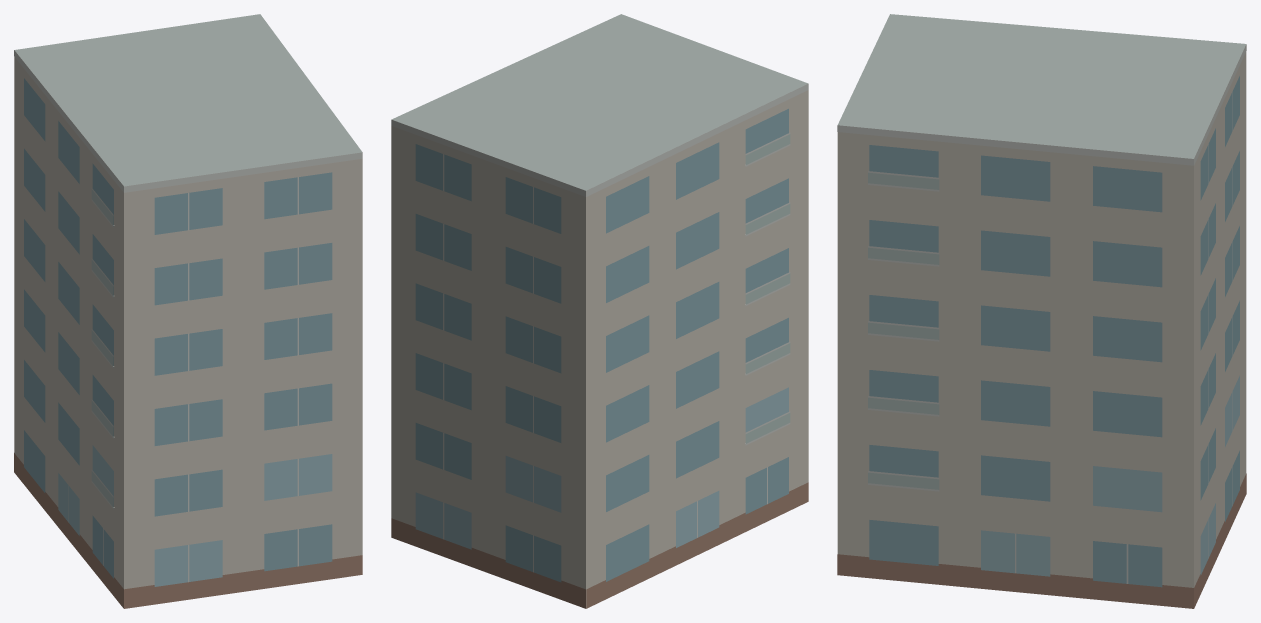
Rendered from survey-upis-32881833.glb.
3 renders of one model, left to right at view 1: azimuth 30°, elevation 25°; view 2: azimuth 150°, elevation 25°; view 3: azimuth 270°, elevation 25°, orthographic. The views are drawn at different scales.
Parts seen in each view (by area): view 1: survey-upis-32881833.tmp; view 2: survey-upis-32881833.tmp; view 3: survey-upis-32881833.tmp.
Boxes of the visible parts, bbox=[...] form: survey-upis-32881833.tmp: bbox=[14, 14, 362, 608]; survey-upis-32881833.tmp: bbox=[391, 14, 808, 608]; survey-upis-32881833.tmp: bbox=[837, 14, 1246, 608].
Bounding box in the file's own units: 11.21 × 16.2 × 13.36.
